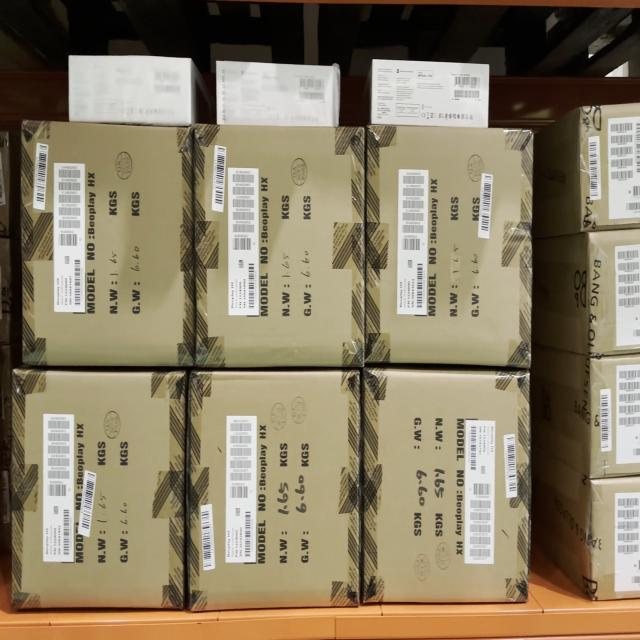box: (14, 371, 183, 607), (197, 128, 364, 364), (24, 128, 192, 362), (192, 373, 361, 604), (366, 131, 531, 363), (366, 372, 528, 602), (70, 58, 191, 123), (373, 64, 488, 126), (217, 65, 338, 123)
